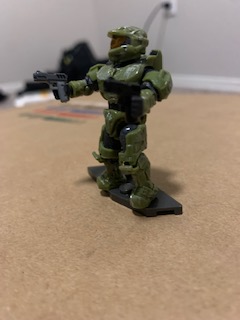chief: (51, 24, 175, 209)
pistol: (102, 73, 145, 115), (31, 66, 71, 109)
spartan: (49, 22, 173, 207)
